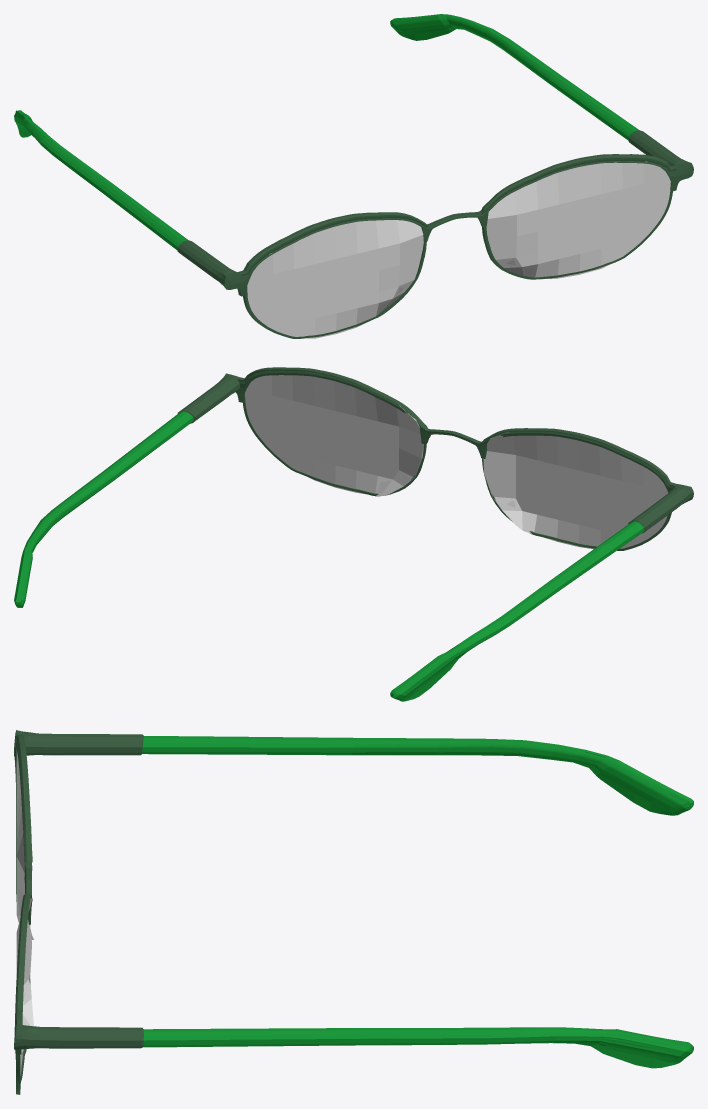
The model's file is 6-Green.glb.
3 renders of one model, top to bottom at view 1: azimuth 30°, elevation 25°; view 2: azimuth 150°, elevation 25°; view 3: azimuth 270°, elevation 25°, orthographic. The views are drawn at different scales.
Visible parts, largest first — view 1: Lens, FrameFront, FrameEnd; view 2: Lens, FrameEnd, FrameFront; view 3: FrameEnd, FrameFront, Lens.
Part boxes in pixels (x1,y1,x2,y2): Lens: (247,161,670,338); FrameFront: (177,130,693,338); FrameEnd: (14,14,638,250); Lens: (245,375,668,549); FrameEnd: (14,411,643,701); FrameFront: (177,367,693,550); FrameEnd: (142,736,693,1068); FrameFront: (14,730,143,1094); Lens: (16,750,34,1075).
Bounding box in the file's own units: 2.22 × 0.517 × 2.09.
